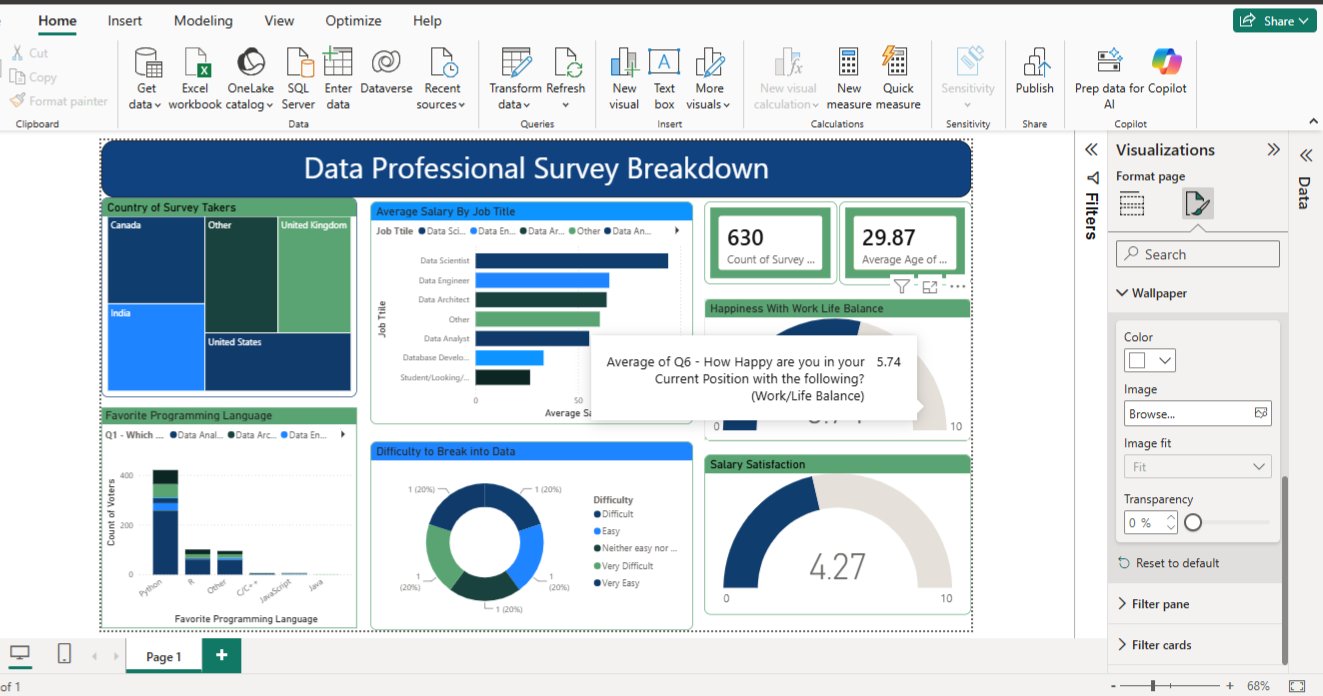

Layout of this report page (visuals, bound fields, positions):
{"tool":"powerbi","page":{"name":"Page 1","canvas":[1280,720],"ordinal":0},"visuals":[{"type":"textbox","box":[0,0,1280,84],"z":0},{"type":"cardVisual","fields":{"Data":["CountNonNull(Data Professional Survey.Unique ID)"]},"box":[887,89.3,195.8,122.4],"z":1000},{"type":"cardVisual","fields":{"Data":["Avg(Data Professional Survey.Q10 - Current Age)"]},"box":[1085.1,89,194.9,122.6],"z":2000},{"type":"barChart","title":"Average Salary By Job Title","fields":{"Category":["Data Professional Survey.Q1 - Which Title Best Fits your Current Role?.1"],"Y":["Avg(Data Professional Survey.Average Salary)"],"Series":["Data Professional Survey.Q1 - Which Title Best Fits your Current Role?.1"]},"box":[396,89.3,475.2,328.3],"z":3000},{"type":"columnChart","title":"Favorite Programming Language","fields":{"Category":["Data Professional Survey.Q5 - Favorite Programming Language.1"],"Y":["CountNonNull(Data Professional Survey.Unique ID)"],"Series":["Data Professional Survey.Q1 - Which Title Best Fits your Current Role?.1"]},"box":[0,393.1,375.8,325.4],"z":4000},{"type":"treemap","title":"Country of Survey Takers","fields":{"Group":["Data Professional Survey.Q11 - Which Country do you live in?.1"],"Values":["Count(Data Professional Survey.Q11 - Which Country do you live in?.1)"]},"box":[0,84,376.3,294],"z":5000},{"type":"gauge","title":"Happiness With Work Life Balance","fields":{"MinValue":["Min(Data Professional Survey.Q6 - How Happy are you in your Current Position with the following? (Work/Life Balance))"],"Y":["Avg(Data Professional Survey.Q6 - How Happy are you in your Current Position with the following? (Work/Life Balance))"],"MaxValue":["Max(Data Professional Survey.Q6 - How Happy are you in your Current Position with the following? (Work/Life Balance))1"]},"box":[886.9,231.8,393.1,210],"z":6000},{"type":"gauge","title":"Salary Satisfaction","fields":{"Y":["Avg(Data Professional Survey.Q6 - How Happy are you in your Current Position with the following? (Salary))"],"MinValue":["Min(Data Professional Survey.Q6 - How Happy are you in your Current Position with the following? (Salary))"],"MaxValue":["Max(Data Professional Survey.Q6 - How Happy are you in your Current Position with the following? (Salary))"]},"box":[887,462.2,393.1,236.2],"z":7000},{"type":"donutChart","title":"Difficulty to Break into Data","fields":{"Category":["Data Professional Survey.Q7 - How difficult was it for you to break into Data?"],"Y":["Count(Data Professional Survey.Q7 - How difficult was it for you to break into Data?)"]},"box":[396,442.1,475.2,277.9],"z":8000}]}

Visuals, with their boxes on the page's 1280x720 design canvas (x1, y1, x2, y2). These are canvas units, not pixel positions in the 1323x696 screenshot, which may show the page scaled, cropped or inside an application window:
textbox: left=0, top=0, right=1280, bottom=84
cardVisual - CountNonNull(Data Professional Survey.Unique ID): left=887, top=89, right=1083, bottom=212
cardVisual - Avg(Data Professional Survey.Q10 - Current Age): left=1085, top=89, right=1280, bottom=212
"Average Salary By Job Title" barChart: left=396, top=89, right=871, bottom=418
"Favorite Programming Language" columnChart: left=0, top=393, right=376, bottom=718
"Country of Survey Takers" treemap: left=0, top=84, right=376, bottom=378
"Happiness With Work Life Balance" gauge: left=887, top=232, right=1280, bottom=442
"Salary Satisfaction" gauge: left=887, top=462, right=1280, bottom=698
"Difficulty to Break into Data" donutChart: left=396, top=442, right=871, bottom=720
